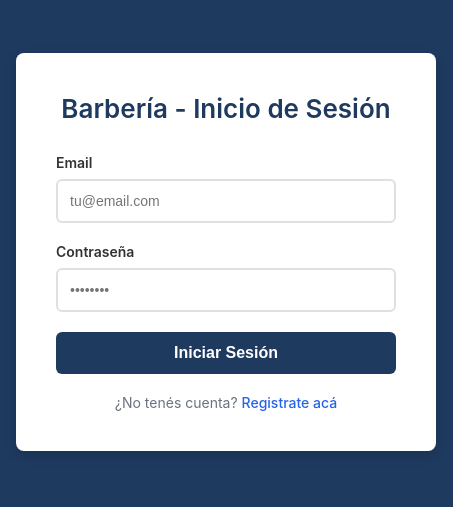
Scenario: LoginPage › should clear error message on new submit attempt
Note: Primer intento fallido
Type "test@example.com" into the field labelled "Email".
click(226, 201); type("test@example.com")  # box [56,179,396,223]
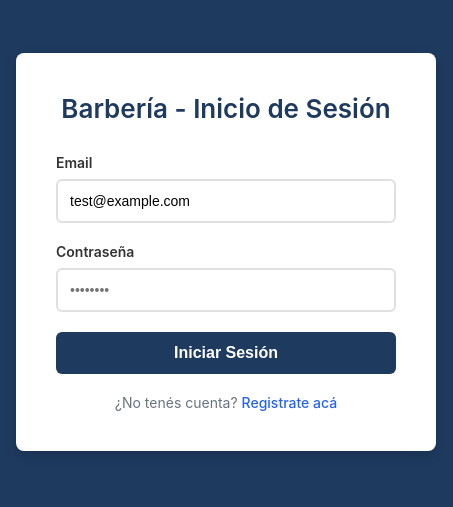
Type "wrong" into the password field labelled "Contraseña".
click(226, 290); type("wrong")  # box [56,268,396,312]
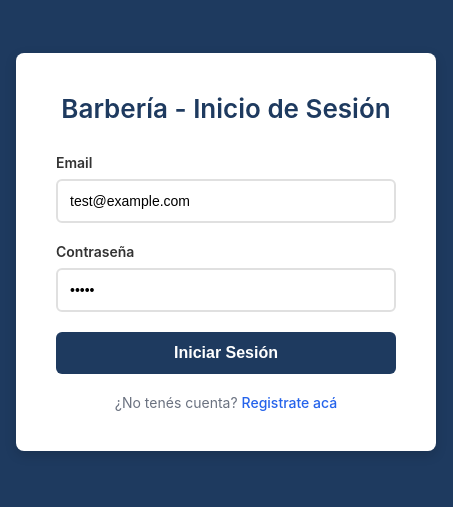
Click the button "Iniciar Sesión".
click(226, 353)  # box [56,332,396,374]
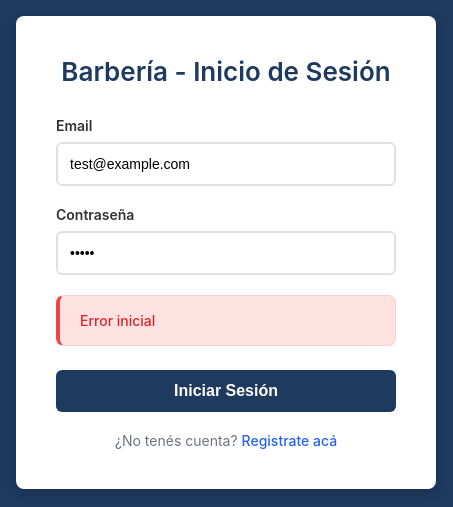
Check: the text "Error inicial" is shown, box [56,294,396,346]
Type "correct" into the password field labelled "Contraseña".
click(226, 252); type("correct")  # box [56,230,396,274]
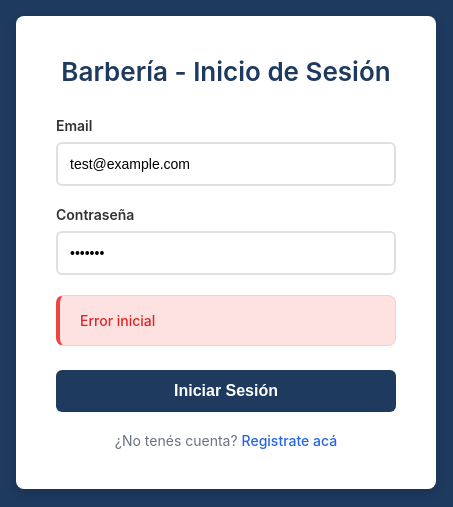
Click the button "Iniciar Sesión".
click(226, 390)  # box [56,370,396,412]
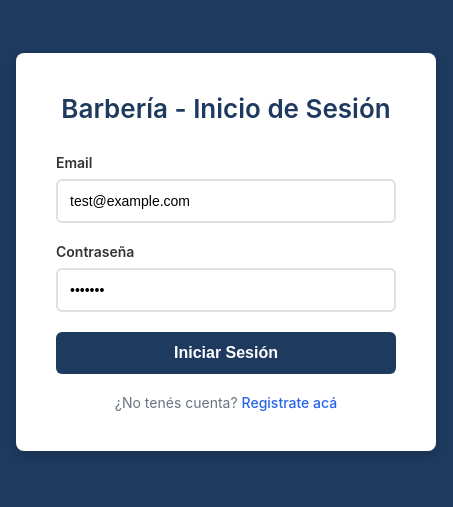
Check: the text "Error inicial" is gone
